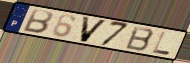6: (51, 14, 77, 39)
7: (97, 20, 131, 48)
B: (21, 8, 54, 35), (124, 25, 156, 52)
L: (151, 31, 172, 57)
V: (79, 15, 109, 44)
